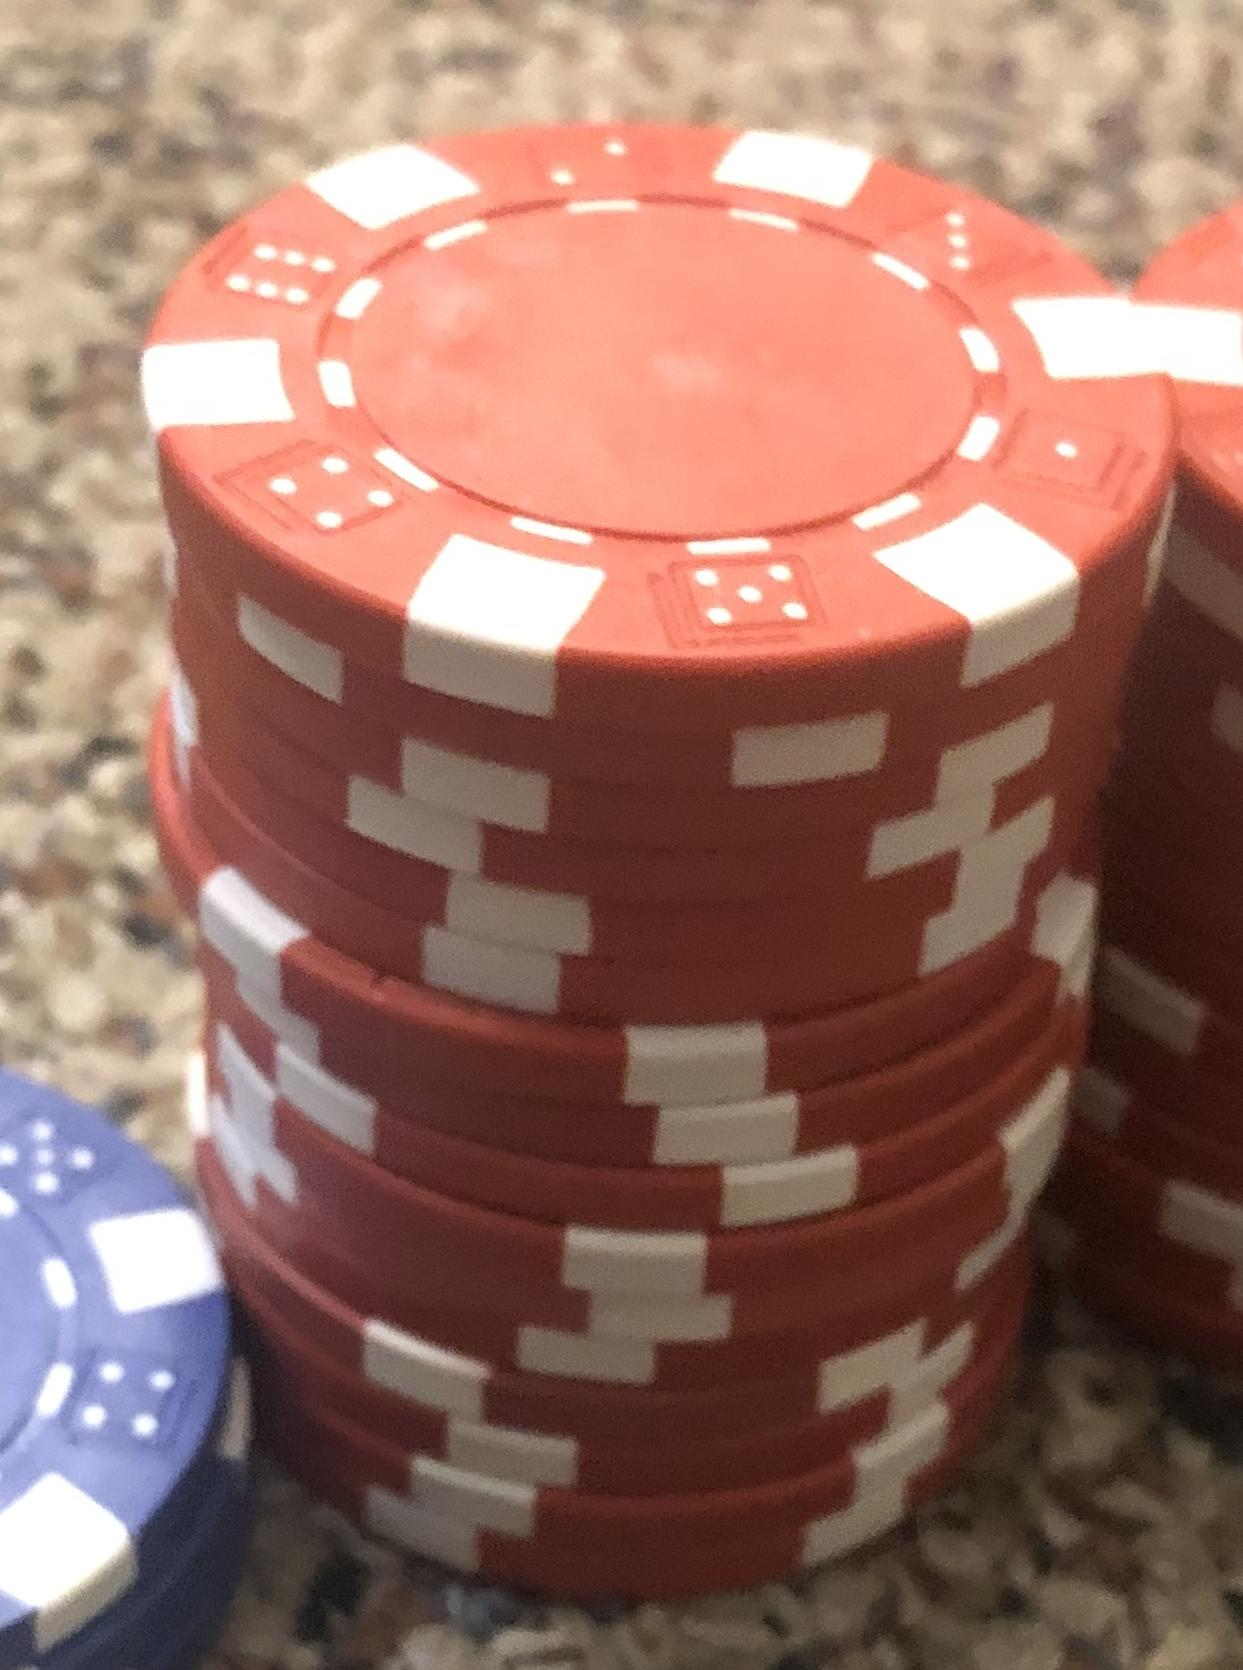Chip: (1, 1, 1243, 1670)
